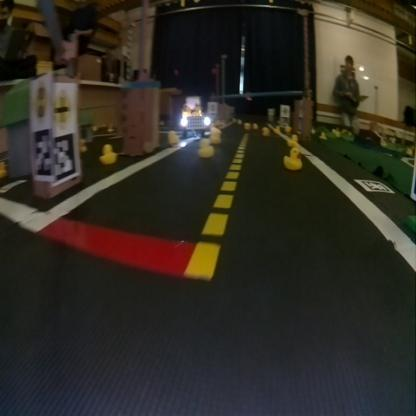Duckie: (284, 147, 302, 170), (99, 144, 116, 164), (200, 139, 212, 157), (167, 131, 176, 143), (287, 134, 297, 144), (262, 126, 268, 134), (244, 122, 248, 128)
Duckiebot: (181, 111, 209, 136)
Intersection sign: (53, 82, 74, 130)
QR code: (53, 133, 78, 177), (30, 128, 51, 176), (355, 178, 392, 192)
Signal sign: (32, 80, 50, 124)
